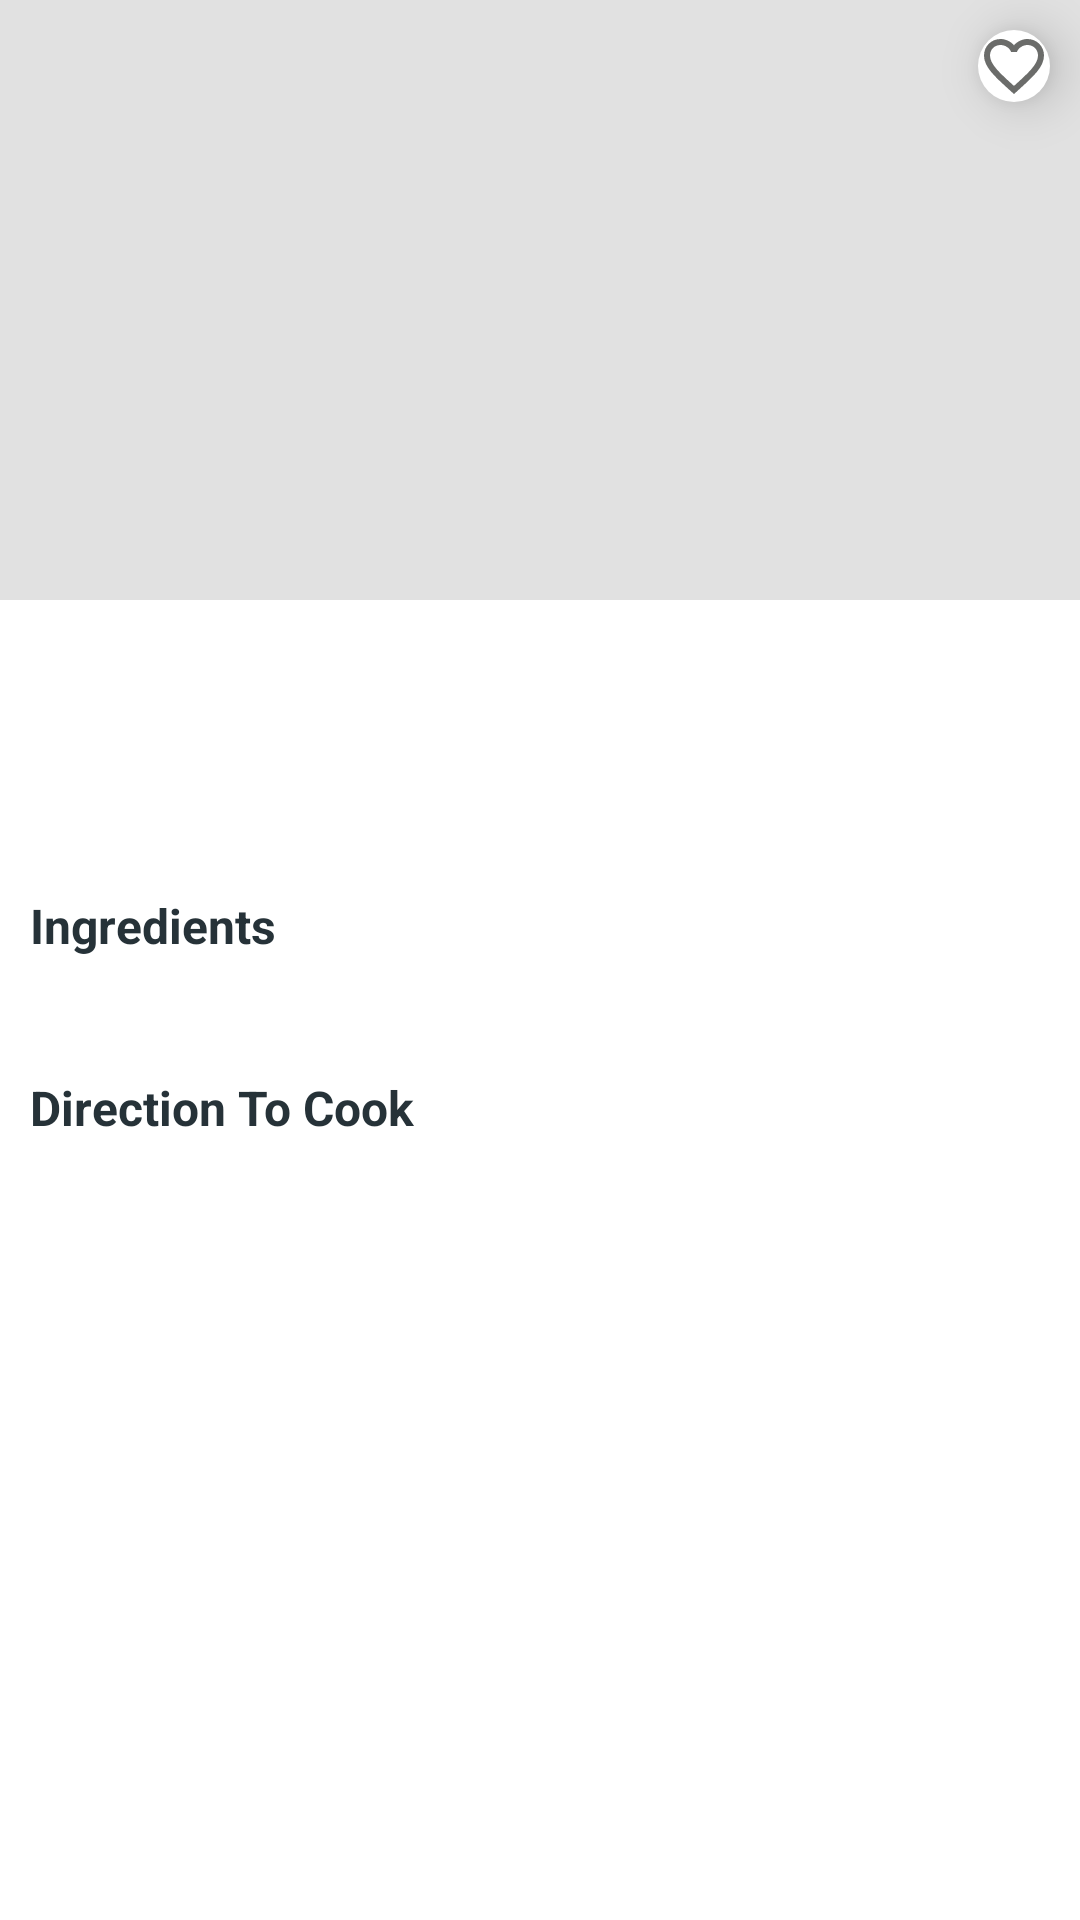

Where to tap for icons on this 1080*1920 app screen, as (x,y):
favorite: (1014,66)
